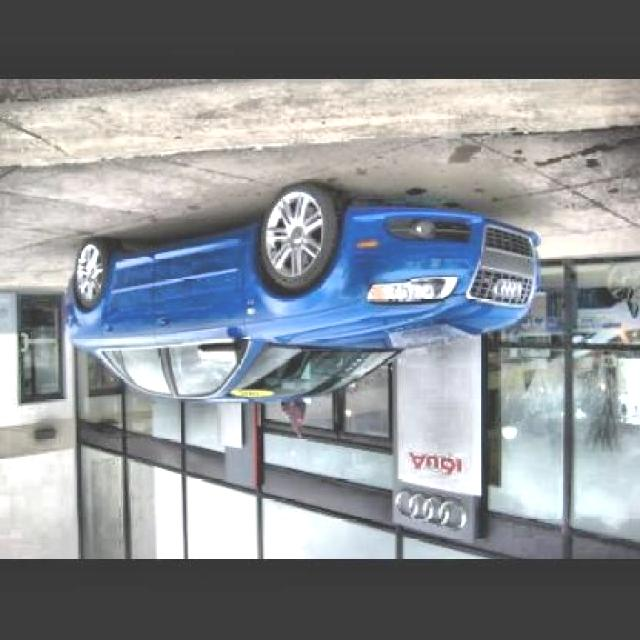blue: (67, 182, 540, 400)
